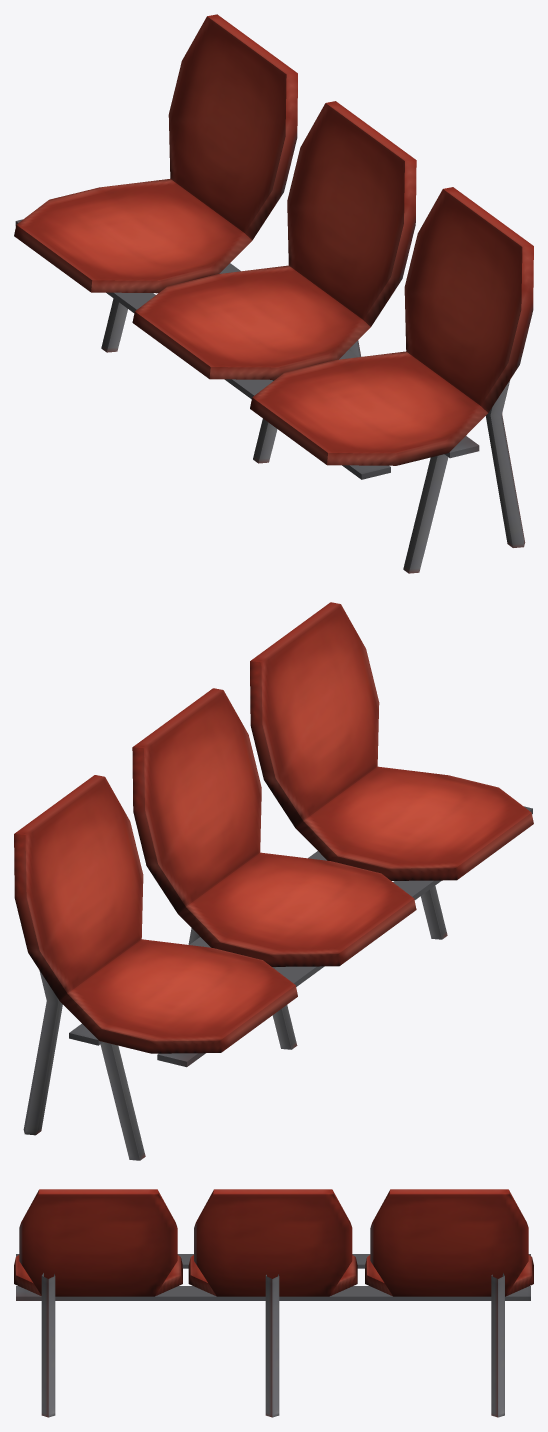
File: WachtStoeltjes.FBX
3 renders of one model, top to bottom at view 1: azimuth 30°, elevation 25°; view 2: azimuth 150°, elevation 25°; view 3: azimuth 270°, elevation 25°, orthographic. The views are drawn at different scales.
Visible parts, largest first — view 1: WachtStoeletjes; view 2: WachtStoeletjes; view 3: WachtStoeletjes.
Boxes of the visible parts, x1,y1,x2,y2 form: WachtStoeletjes: [14, 14, 533, 573]; WachtStoeletjes: [14, 602, 533, 1160]; WachtStoeletjes: [14, 1189, 533, 1417].
Size of the model in its own units: 74.64 by 105 by 220.
1 material, 1 textured.
